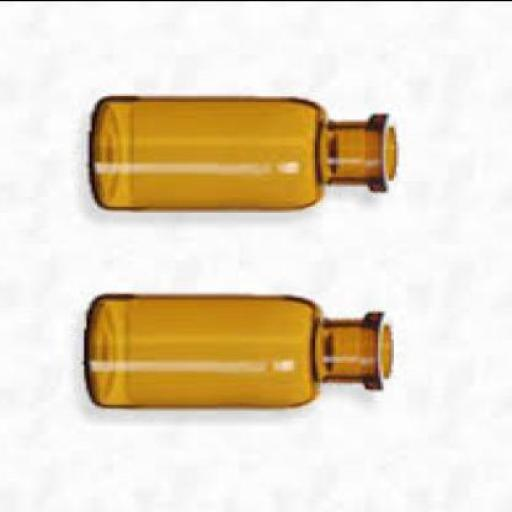glass: (89, 96, 402, 214), (86, 295, 394, 409)
